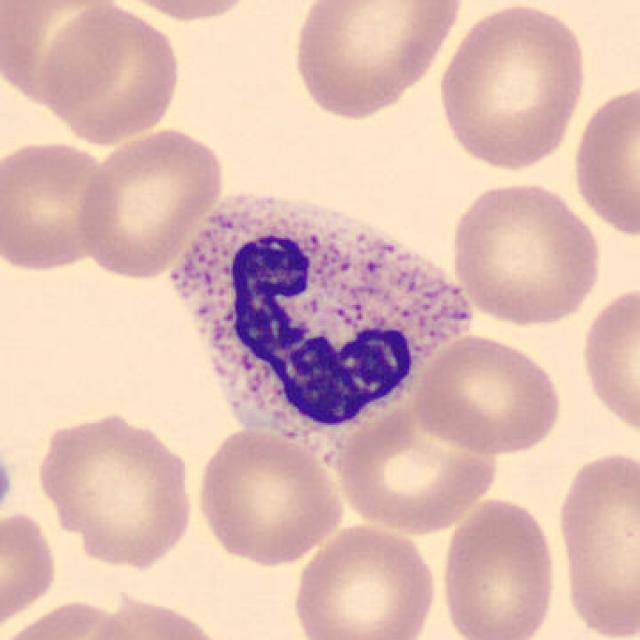Neutrophil: (158, 183, 486, 464)
Platelets: (0, 444, 14, 527)
RBC: (434, 0, 592, 175), (32, 408, 199, 570), (73, 124, 227, 280), (446, 176, 604, 328), (329, 402, 503, 536), (192, 425, 348, 568), (286, 0, 467, 123), (37, 2, 185, 146), (409, 329, 567, 456), (288, 520, 441, 640), (436, 492, 560, 640), (551, 444, 640, 638), (0, 135, 117, 275), (0, 0, 128, 111), (567, 78, 640, 242), (576, 279, 640, 446), (0, 506, 62, 635), (79, 590, 229, 640), (2, 596, 142, 640), (101, 0, 267, 25), (0, 442, 16, 529)
